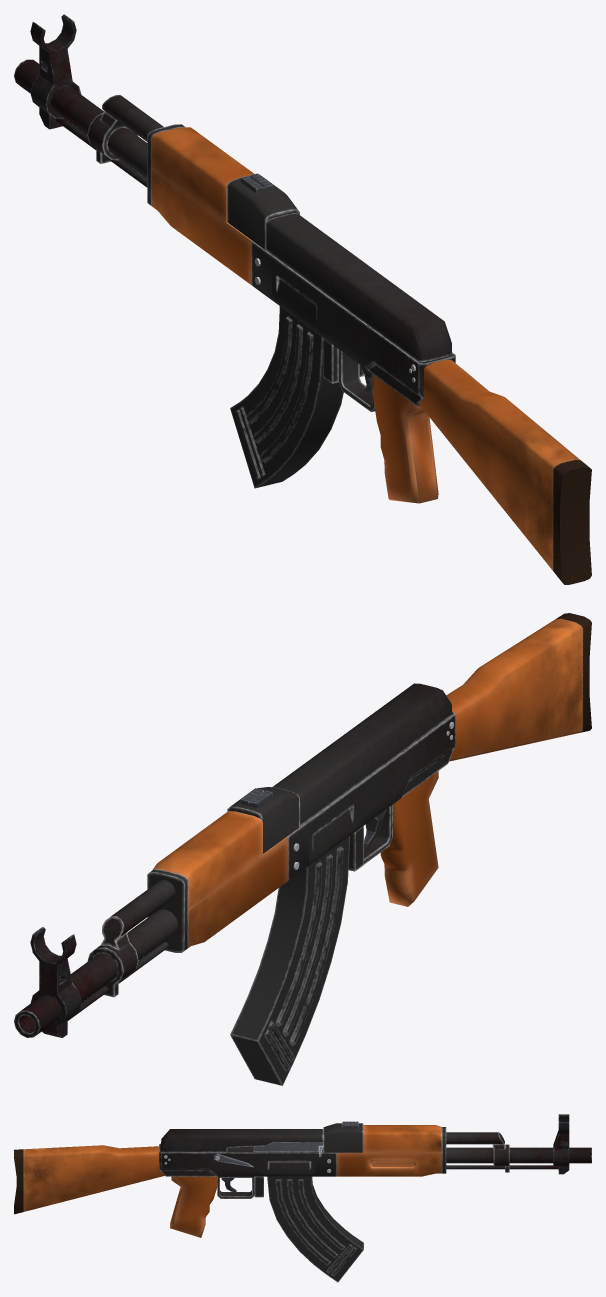
3 views of the same model, one above another, from view 1: azimuth 30°, elevation 25°; view 2: azimuth 150°, elevation 25°; view 3: azimuth 270°, elevation 25° (orthographic). The views are drawn at different scales.
Parts seen in each view (by area): view 1: AK, Magazine.001; view 2: AK, Magazine.001; view 3: AK, Magazine.001, Bolt.
Boxes of the visible parts, x1,y1,x2,y2 form: AK: (14,14,591,584); Magazine.001: (230,306,343,488); AK: (14,613,591,1037); Magazine.001: (230,836,349,1085); AK: (14,1114,591,1237); Magazine.001: (267,1176,363,1282); Bolt: (253,1143,323,1156).
Bounding box in the file's own units: 0.0506 × 0.27 × 0.88.
Materials: 2 (2 with a texture image).
